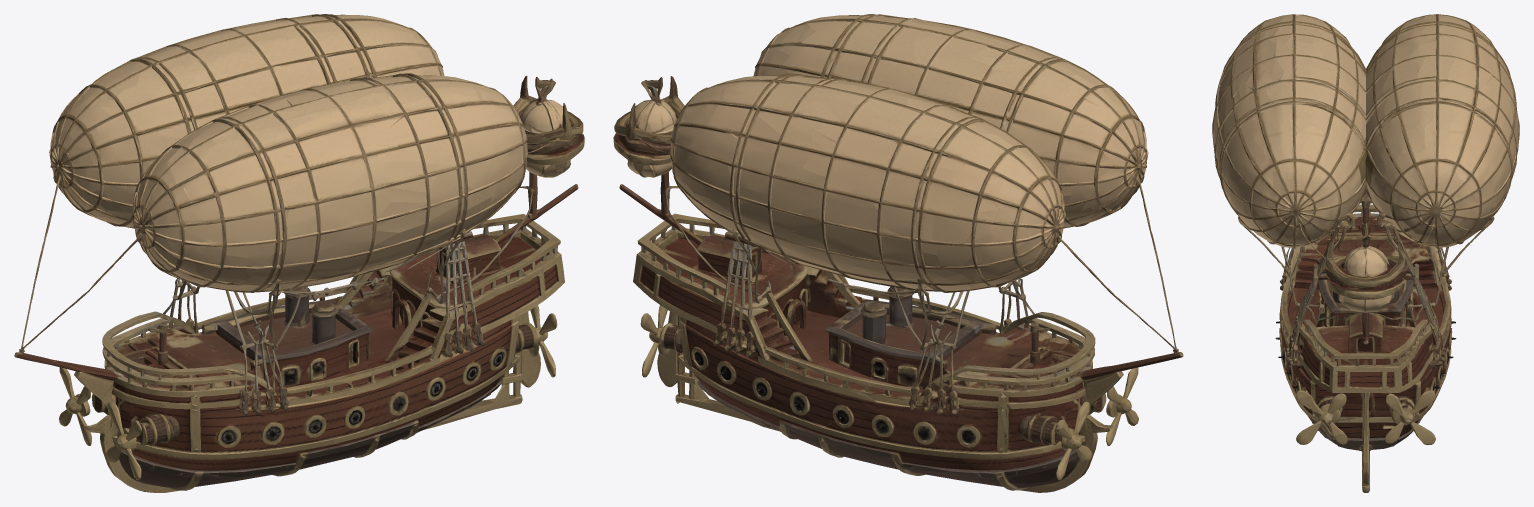
The picture shows the model from 3 angles, left to right: view 1: azimuth 30°, elevation 25°; view 2: azimuth 150°, elevation 25°; view 3: azimuth 270°, elevation 25°; orthographic projection. The views are drawn at different scales.
Parts seen in each view (by area): view 1: Mesh_0; view 2: Mesh_0; view 3: Mesh_0.
Part boxes in pixels (x1,y1,x2,y2): Mesh_0: (14, 14, 584, 492); Mesh_0: (613, 14, 1183, 492); Mesh_0: (1212, 14, 1519, 492).
Size of the model in its own units: 1.9 by 1.28 by 1.04.
1 material, 1 textured.
